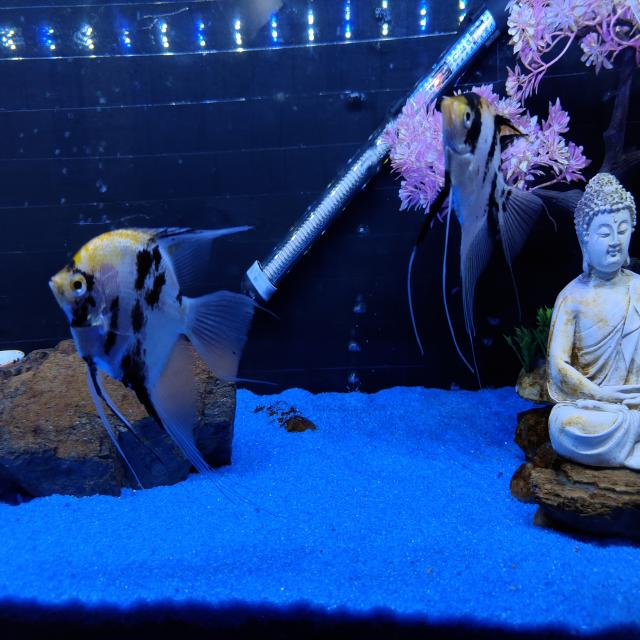Fish: (50, 227, 256, 479), (416, 93, 542, 346)
